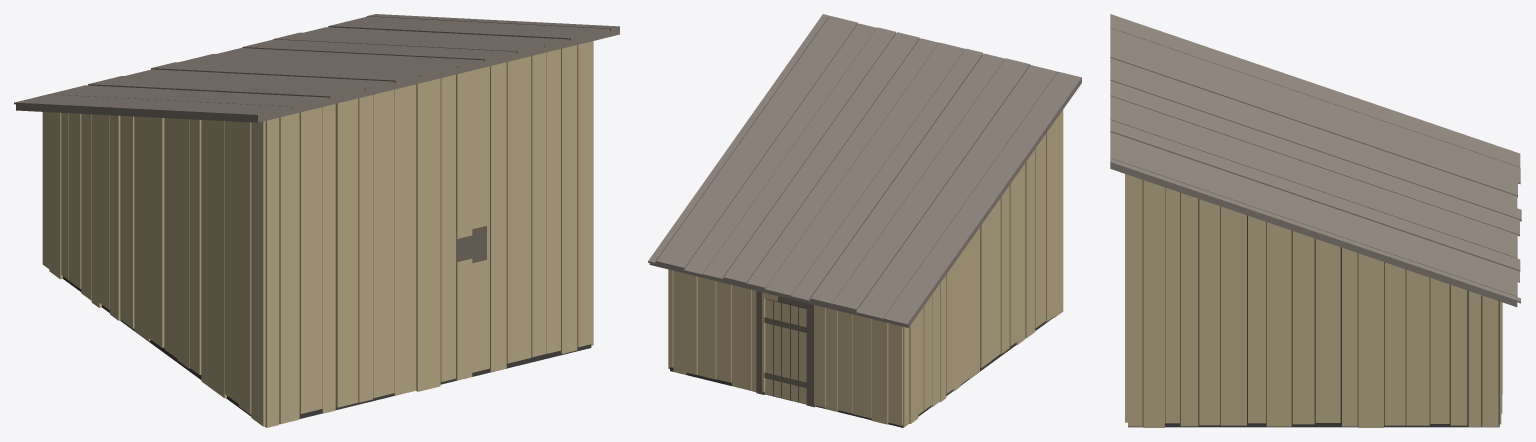
Rendered from recon_1835_blk_randolph_market_d2_09__inferred_1835.glb.
3 renders of one model, left to right at view 1: azimuth 30°, elevation 25°; view 2: azimuth 150°, elevation 25°; view 3: azimuth 270°, elevation 25°, orthographic. The views are drawn at different scales.
Parts seen in each view (by area): view 1: recon_1835_blk_randolph_market_d2_09__inferred_1835; view 2: recon_1835_blk_randolph_market_d2_09__inferred_1835; view 3: recon_1835_blk_randolph_market_d2_09__inferred_1835.
Part boxes in pixels (x1,y1,x2,y2): recon_1835_blk_randolph_market_d2_09__inferred_1835: [14, 14, 619, 427]; recon_1835_blk_randolph_market_d2_09__inferred_1835: [648, 14, 1081, 427]; recon_1835_blk_randolph_market_d2_09__inferred_1835: [1110, 14, 1521, 427].
Size of the model in its own units: 5.25 by 4.51 by 6.15.
